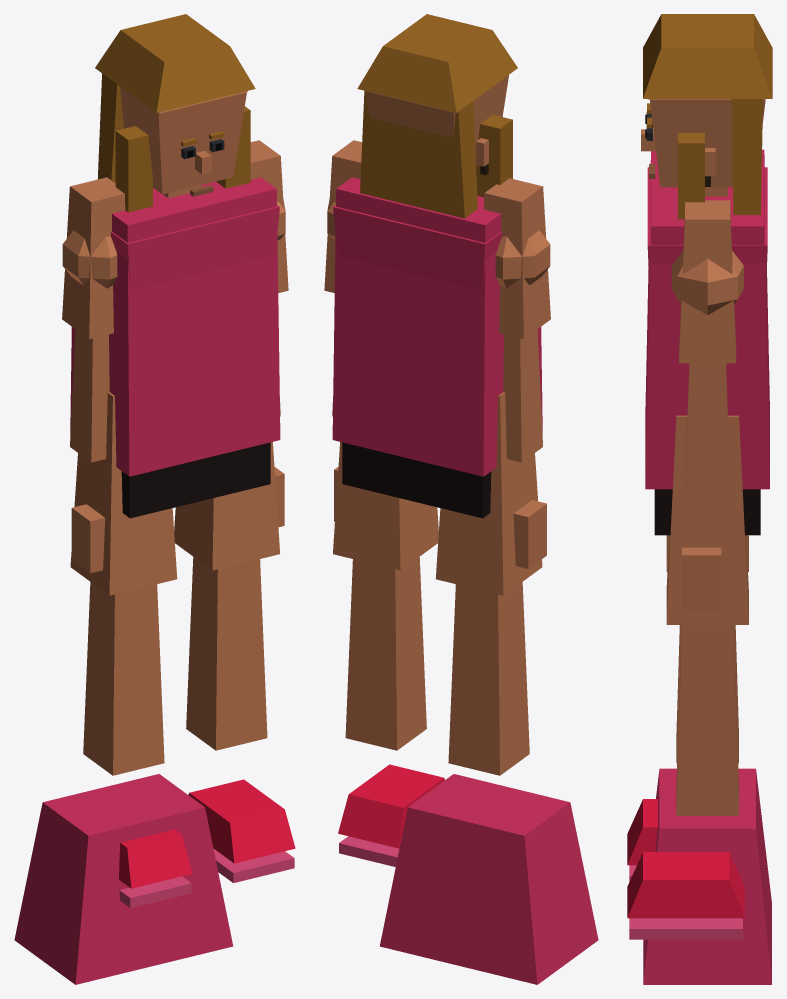
File: npc_woman_pose_v13.glb
The picture shows the model from 3 angles, left to right: view 1: azimuth 30°, elevation 25°; view 2: azimuth 150°, elevation 25°; view 3: azimuth 270°, elevation 25°; orthographic projection. The views are drawn at different scales.
Parts seen in each view (by area): view 1: torso, footR, head, lowerLegR, lowerLegL, upperLegR, upperArmR, footL, upperLegL, foreArmR, hips, upperArmL; view 2: torso, footR, head, lowerLegR, lowerLegL, upperLegR, upperArmR, upperLegL, foreArmR, hips, footL, upperArmL; view 3: head, torso, footR, lowerLegL, upperLegL, footL, upperArmL, foreArmL, hips, lowerLegR.
Boxes of the visible parts, x1,y1,x2,y2 form: torso: (70, 177, 280, 476); footR: (14, 774, 233, 984); head: (95, 14, 255, 212); lowerLegR: (83, 582, 164, 775); lowerLegL: (186, 557, 267, 750); upperLegR: (70, 392, 177, 595); upperArmR: (62, 177, 125, 339); footL: (188, 779, 295, 882); upperLegL: (174, 442, 279, 570); foreArmR: (70, 329, 109, 573); hips: (121, 442, 270, 518); upperArmL: (250, 140, 288, 292); torso: (332, 177, 542, 476); footR: (379, 774, 598, 984); head: (357, 14, 517, 218); lowerLegR: (448, 582, 529, 775); lowerLegL: (345, 557, 426, 750); upperLegR: (435, 392, 542, 595); upperArmR: (483, 178, 550, 339); upperLegL: (333, 442, 438, 570); foreArmR: (503, 329, 546, 568); hips: (342, 442, 491, 518); footL: (338, 764, 444, 866); upperArmL: (324, 140, 362, 292); head: (641, 14, 772, 219); torso: (645, 149, 769, 489); footR: (627, 768, 771, 984); lowerLegL: (676, 625, 738, 815); upperLegL: (666, 415, 748, 624); footL: (627, 852, 744, 939); upperArmL: (671, 200, 743, 363); foreArmL: (682, 363, 730, 609); hips: (654, 489, 760, 535); lowerLegR: (676, 625, 738, 763).
Bounding box in the file's own units: 0.5402 × 1.93 × 0.2707.
